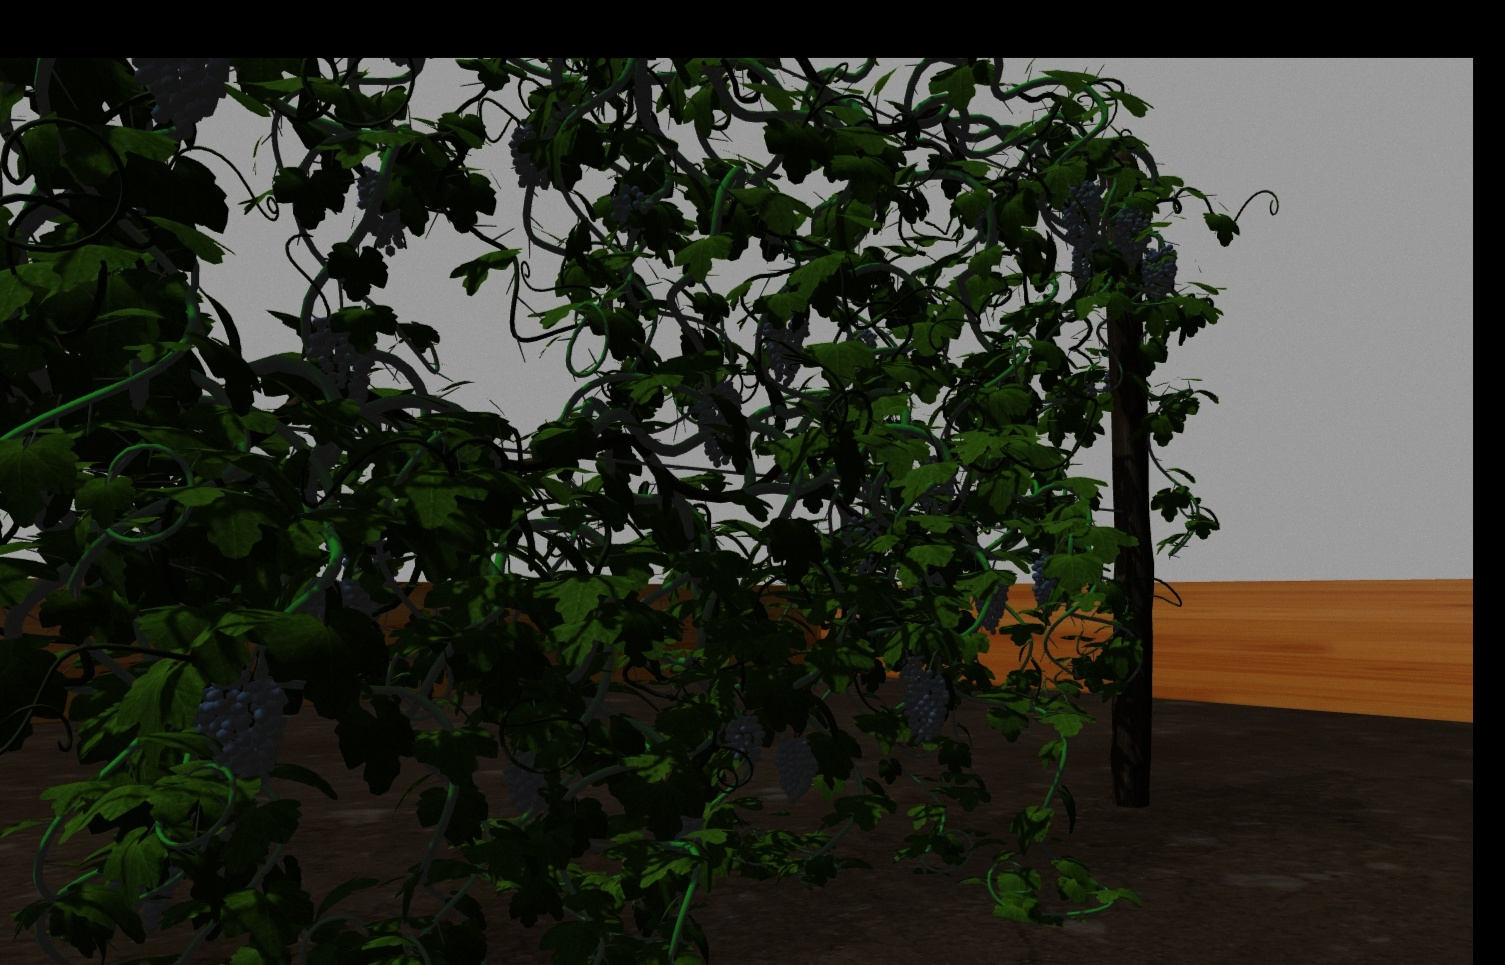grape: (195, 669, 288, 779), (132, 60, 231, 137), (308, 314, 380, 402), (899, 652, 949, 743), (691, 383, 742, 467), (759, 311, 810, 385), (501, 751, 556, 810), (774, 733, 819, 801), (1063, 179, 1104, 247), (1113, 201, 1153, 268), (723, 709, 766, 764), (974, 574, 1010, 634), (1141, 245, 1177, 300), (1029, 555, 1061, 614), (609, 183, 654, 225), (1070, 247, 1091, 289)
